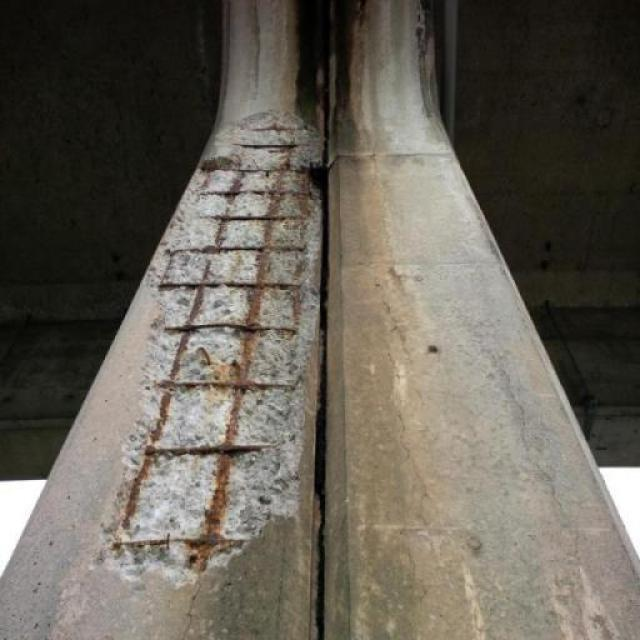D0w0: (91, 110, 325, 585)
